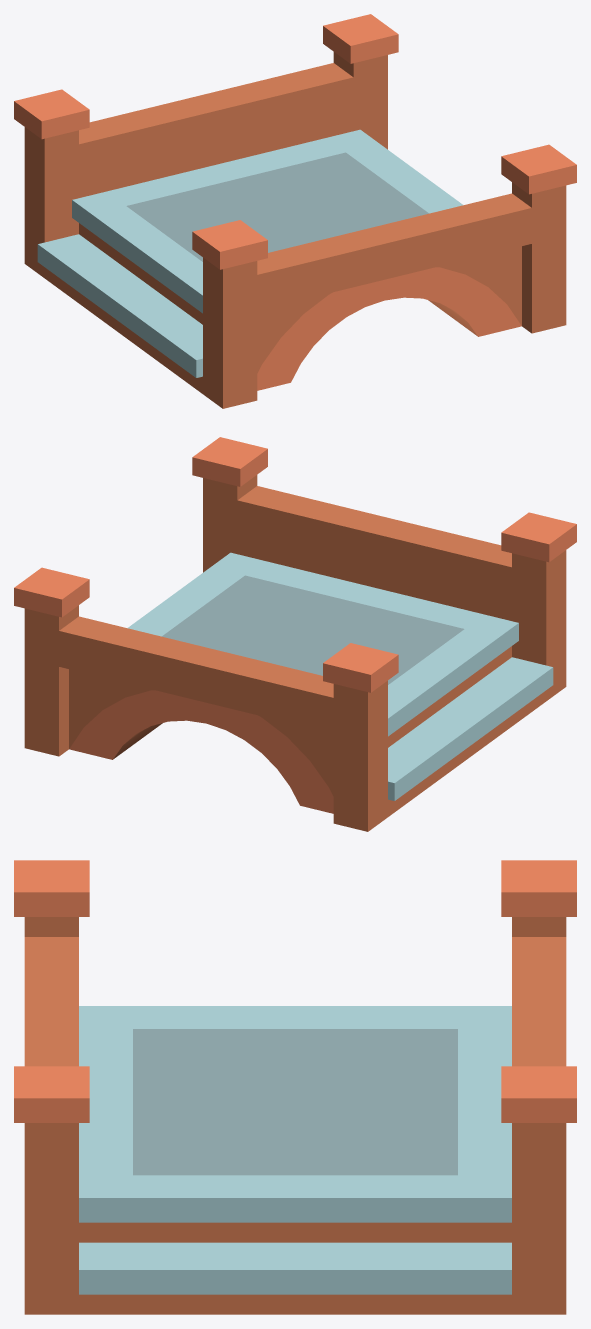
The picture shows the model from 3 angles, top to bottom: view 1: azimuth 30°, elevation 25°; view 2: azimuth 150°, elevation 25°; view 3: azimuth 270°, elevation 25°; orthographic projection. The views are drawn at different scales.
Parts seen in each view (by area): view 1: bridge_woodRound; view 2: bridge_woodRound; view 3: bridge_woodRound.
Part boxes in pixels (left/top/right/bottom): bridge_woodRound: left=14, top=14, right=576, bottom=408; bridge_woodRound: left=14, top=437, right=576, bottom=831; bridge_woodRound: left=14, top=860, right=576, bottom=1314.
Size of the model in its own units: 1.04 by 0.45 by 1.04.
